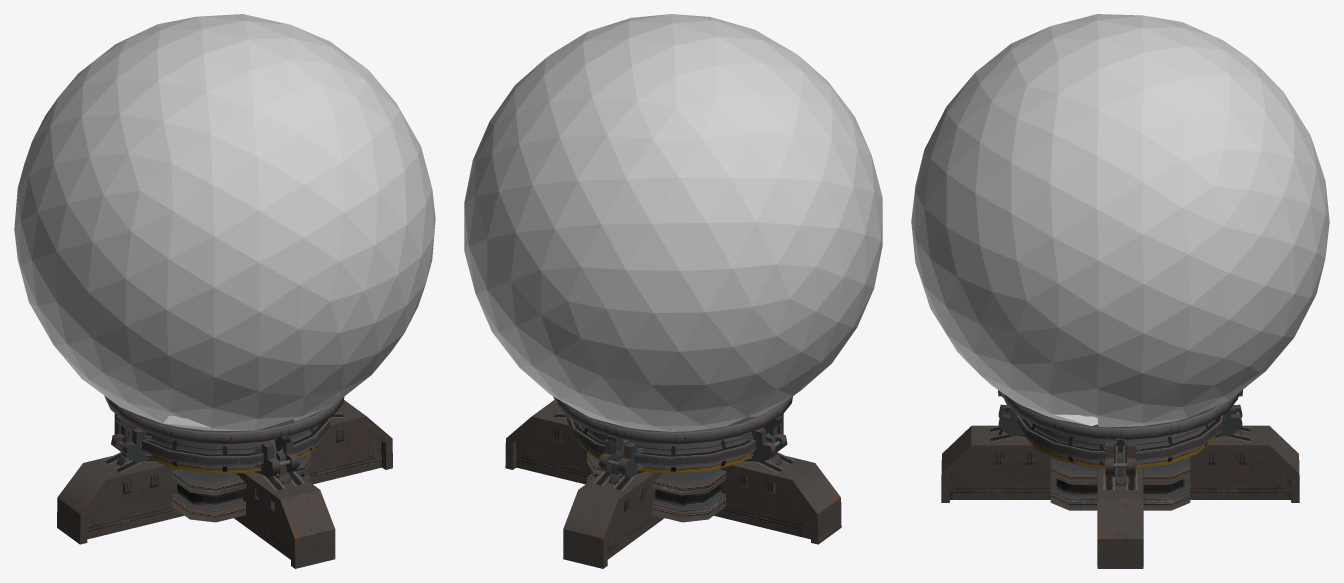
File: Radar_Sphere1_phys.fbx
3 renders of one model, left to right at view 1: azimuth 30°, elevation 25°; view 2: azimuth 150°, elevation 25°; view 3: azimuth 270°, elevation 25°, orthographic.
Parts seen in each view (by area): view 1: Radar_Sphere1_phys; view 2: Radar_Sphere1_phys; view 3: Radar_Sphere1_phys.
Part boxes in pixels (x1=…): Radar_Sphere1_phys: x1=14, y1=14, x2=435, y2=568; Radar_Sphere1_phys: x1=464, y1=14, x2=882, y2=568; Radar_Sphere1_phys: x1=911, y1=14, x2=1329, y2=568.
Size of the model in its own units: 289 by 352 by 291.
